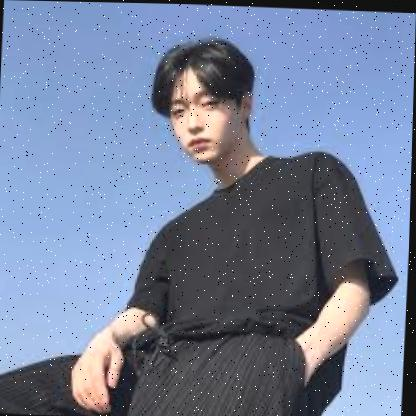person: (154, 32, 262, 170)
